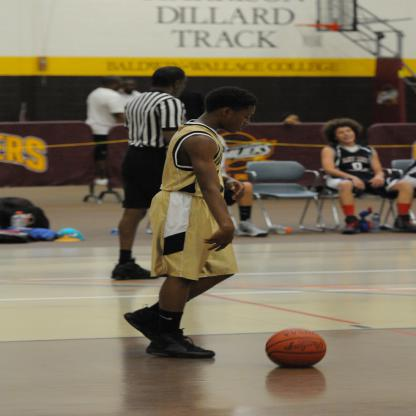Ball: (265, 326, 326, 368)
